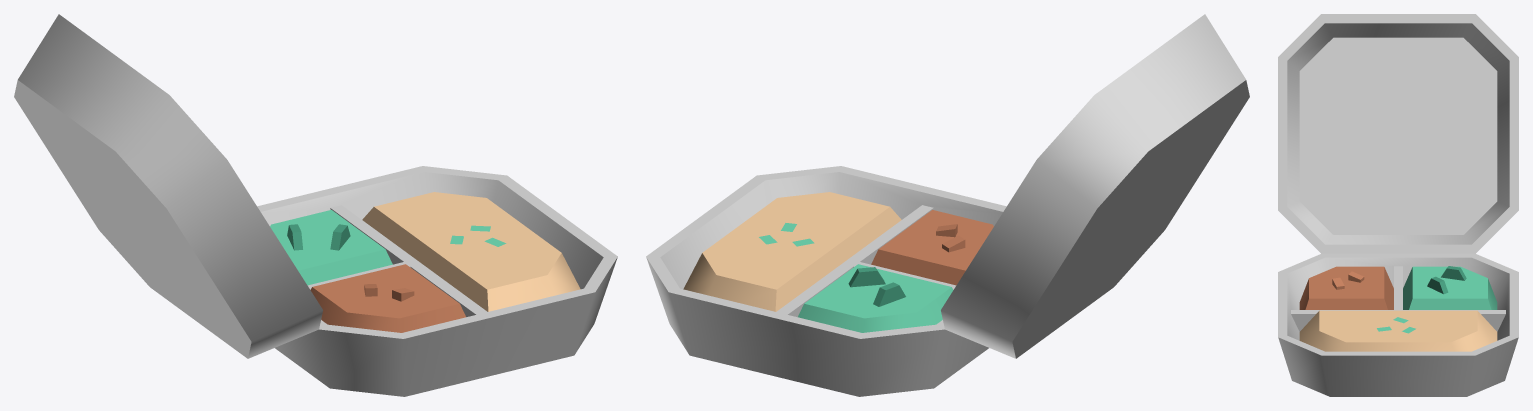
File: Styrofoam_Dinner.glb
The picture shows the model from 3 angles, left to right: view 1: azimuth 30°, elevation 25°; view 2: azimuth 150°, elevation 25°; view 3: azimuth 270°, elevation 25°; orthographic projection. The views are drawn at different scales.
Parts seen in each view (by area): view 1: styrofoamDinner; view 2: styrofoamDinner; view 3: styrofoamDinner.
Boxes of the visible parts, <box> form: styrofoamDinner: <box>14,14,617,396</box>; styrofoamDinner: <box>646,14,1249,396</box>; styrofoamDinner: <box>1278,14,1518,396</box>.
Size of the model in its own units: 1.26 by 0.822 by 0.7589.
